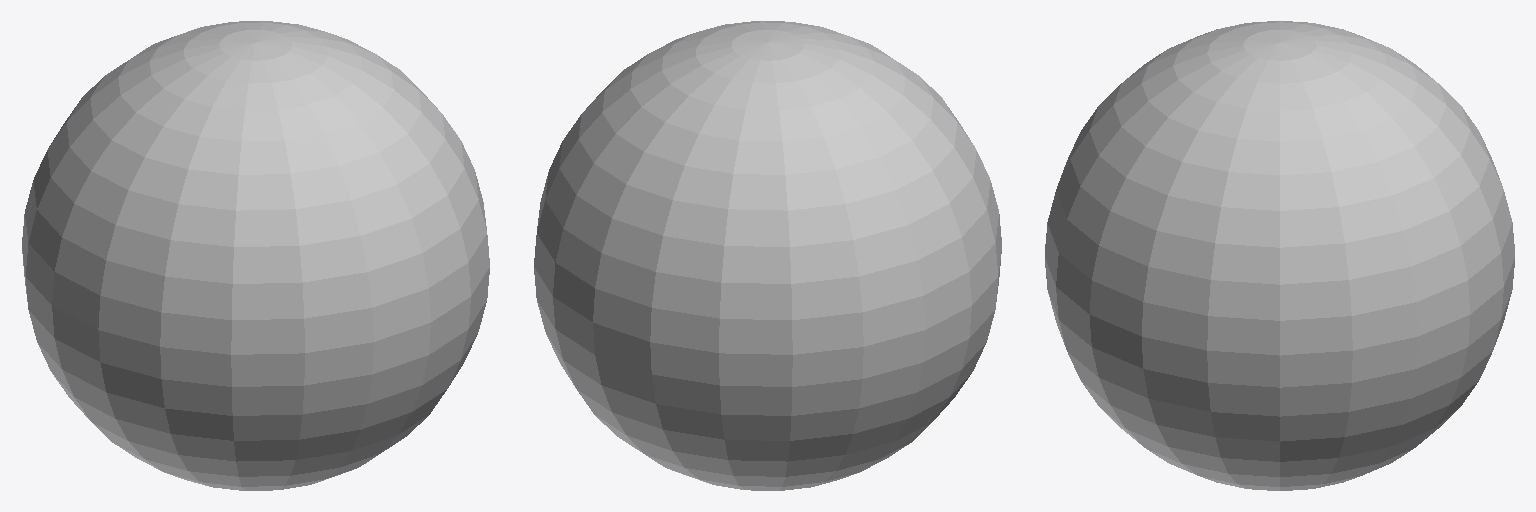
The model's file is player_knee.obj.
The picture shows the model from 3 angles: view 1: azimuth 30°, elevation 25°; view 2: azimuth 150°, elevation 25°; view 3: azimuth 270°, elevation 25°; orthographic projection.
Size of the model in its own units: 0.3365 by 0.3365 by 0.3365.